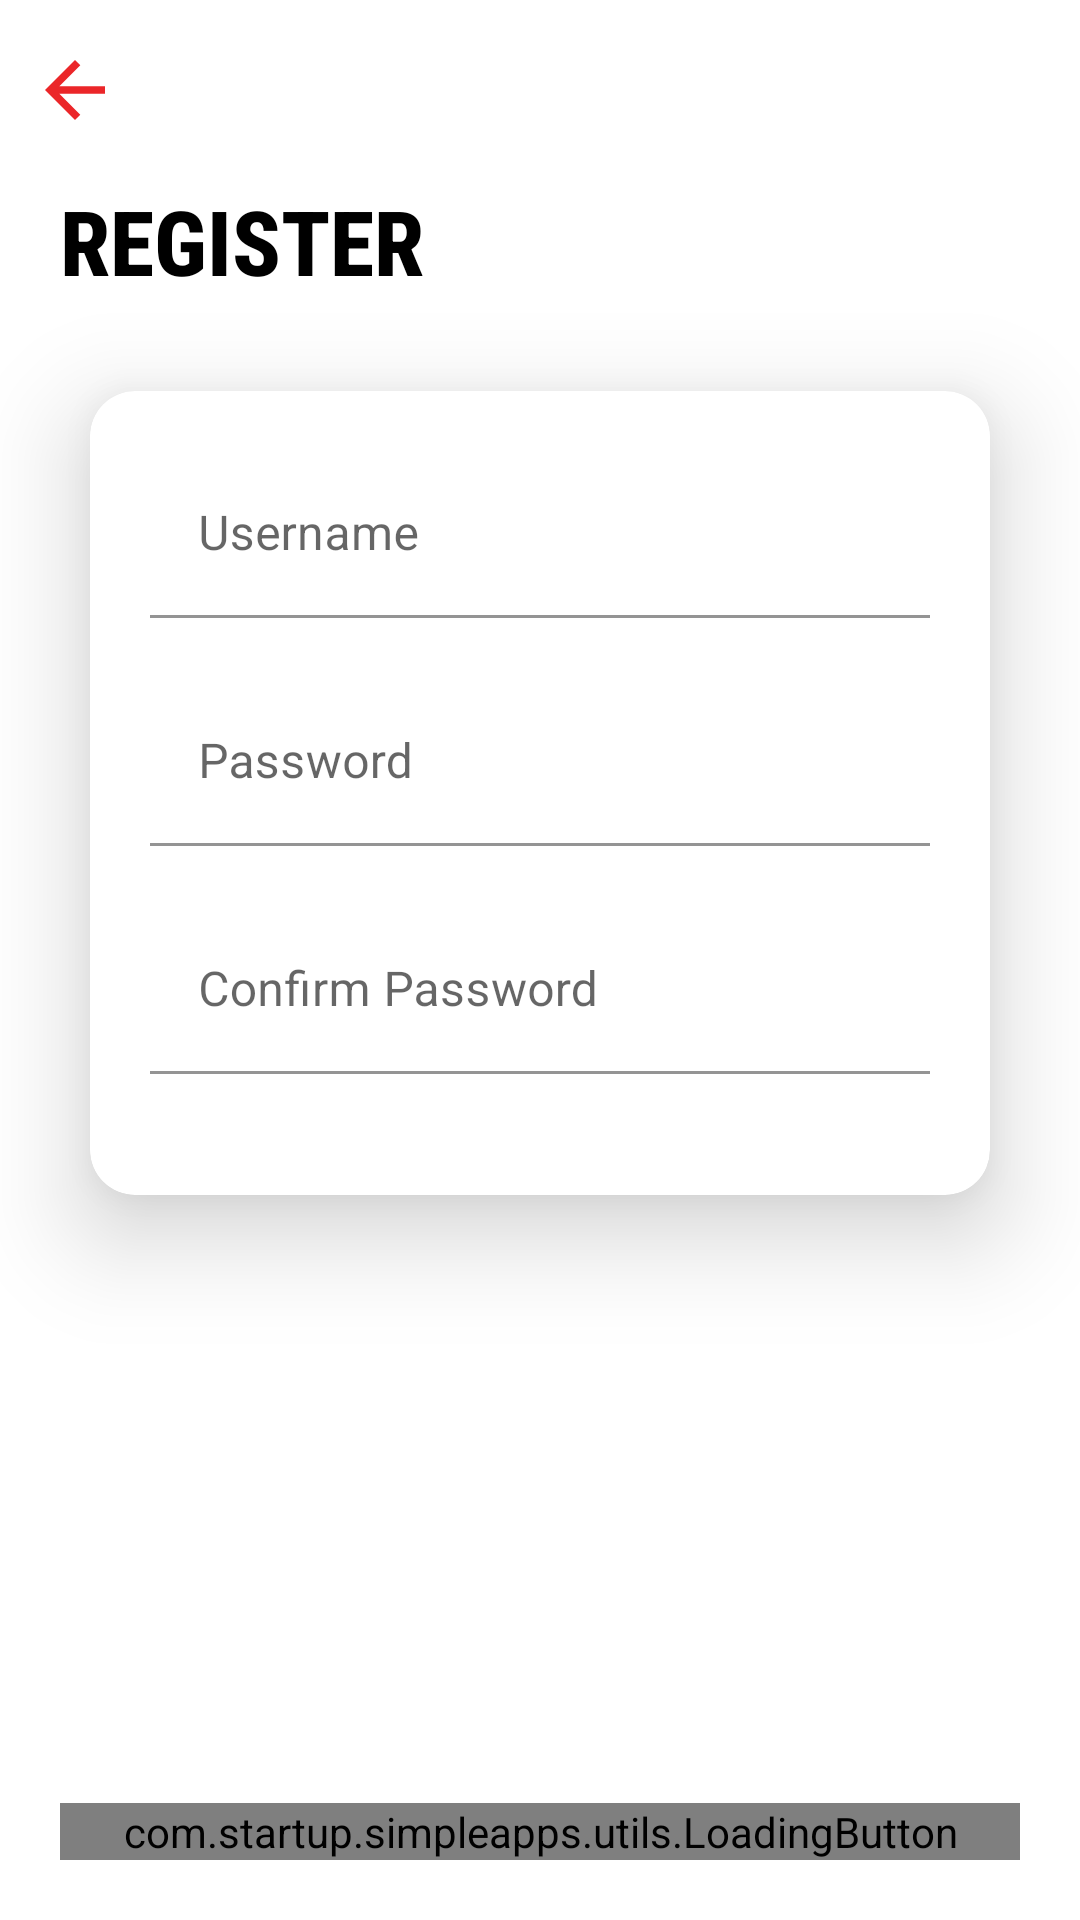

Named icons in this screenshot (1080x1920) and their centers, (x=x, y=y):
arrow back: (x=75, y=90)
